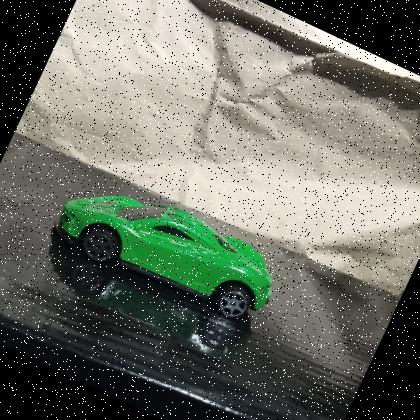Car: (41, 156, 298, 341)
